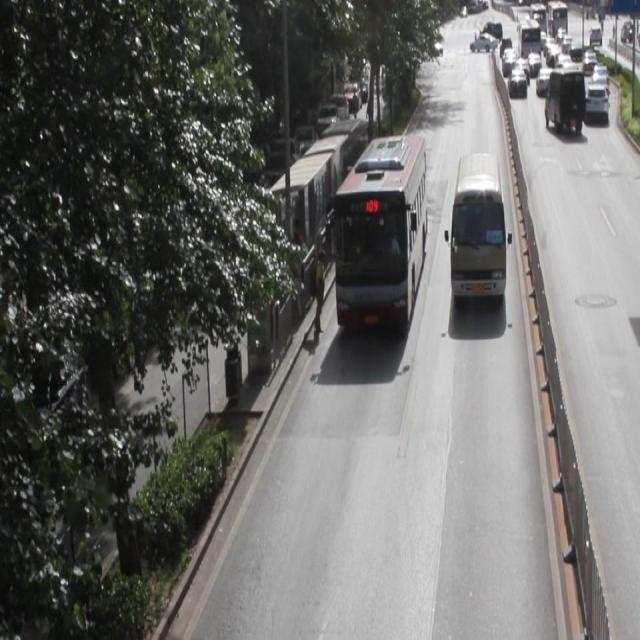truck: (448, 153, 505, 301)
van: (334, 134, 424, 328)
